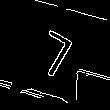L_SW: (25, 28, 77, 86)
